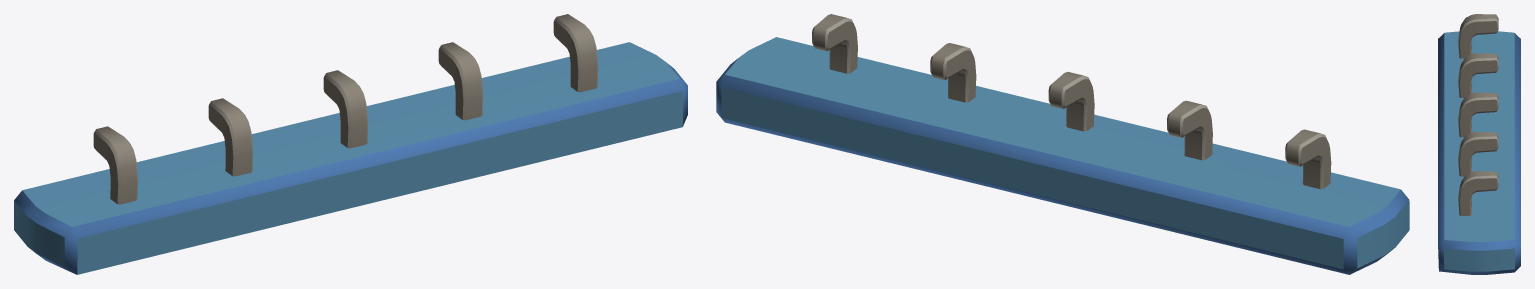
Rendered from UtensilsHang_1_D.glb.
3 views of the same model, side by side, from view 1: azimuth 30°, elevation 25°; view 2: azimuth 150°, elevation 25°; view 3: azimuth 270°, elevation 25° (orthographic). The views are drawn at different scales.
Parts seen in each view (by area): view 1: UtensilsHang_1_D; view 2: UtensilsHang_1_D; view 3: UtensilsHang_1_D.
Part boxes in pixels (x1,y1,x2,y2): UtensilsHang_1_D: (14,14,687,274); UtensilsHang_1_D: (716,14,1409,274); UtensilsHang_1_D: (1438,14,1520,274).
Bounding box in the file's own units: 0.5584 × 0.0859 × 0.0901.
2 materials, 2 textured.
